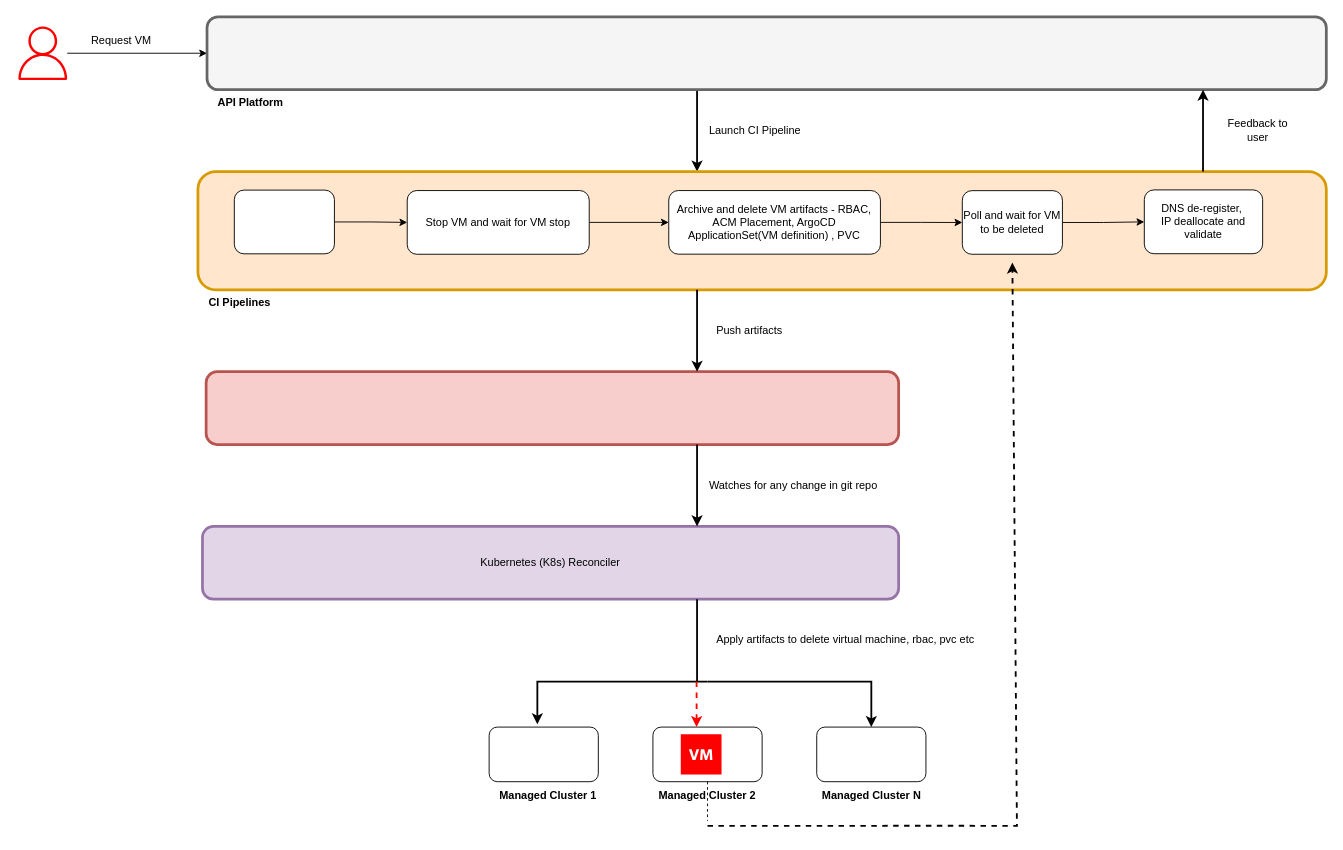
Some shapes in this 1343 by 850 pixel diagram are drawn without their labels. Each missing label, with the centre of its shape:
API: [766,53]
Git: [552,407]
Validate Parameters: [283,221]
